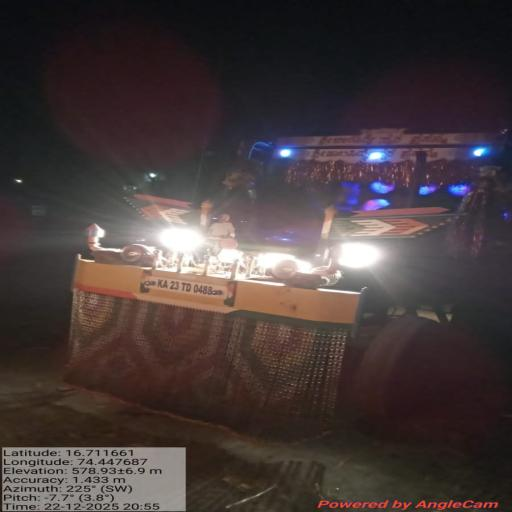number_plate: (142, 274, 238, 312)
